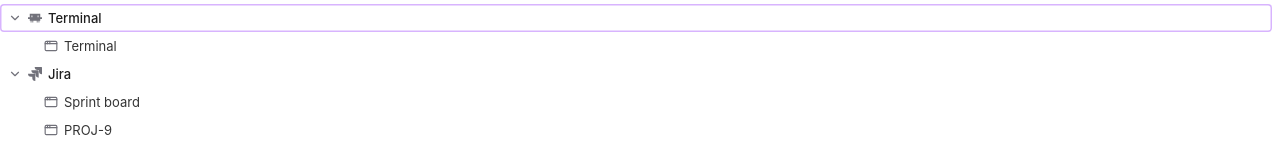
PanelTabTree Rename + Delete (TREE-TAB-EDIT-01) › a TERMINAL row offers both Rename and Delete (P2)
This screenshot has width=1280, height=160.
Right-click the 2nd list item "Terminal".
right_click(80, 46)  # box top-left (44, 38), bottom-right (117, 54)
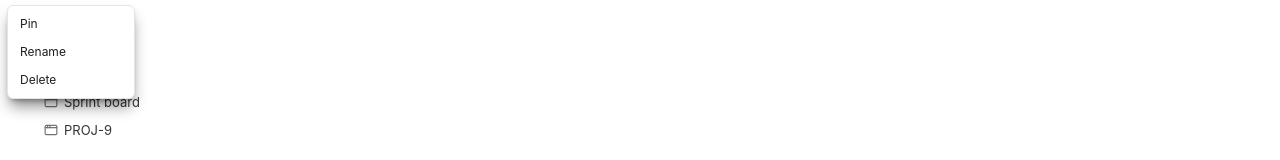
expect the menu item "Rename" is shown: met, box top-left (20, 44), bottom-right (66, 59)
expect the menu item "Delete" is shown: met, box top-left (20, 72), bottom-right (56, 87)
